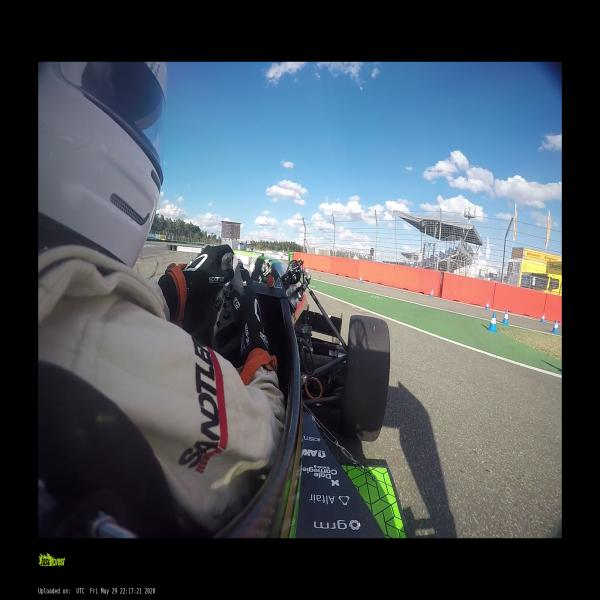blue_cone: (488, 312, 497, 332), (502, 310, 509, 325), (552, 320, 559, 334), (542, 314, 546, 323), (485, 301, 489, 310), (430, 289, 433, 298), (360, 276, 362, 283)
